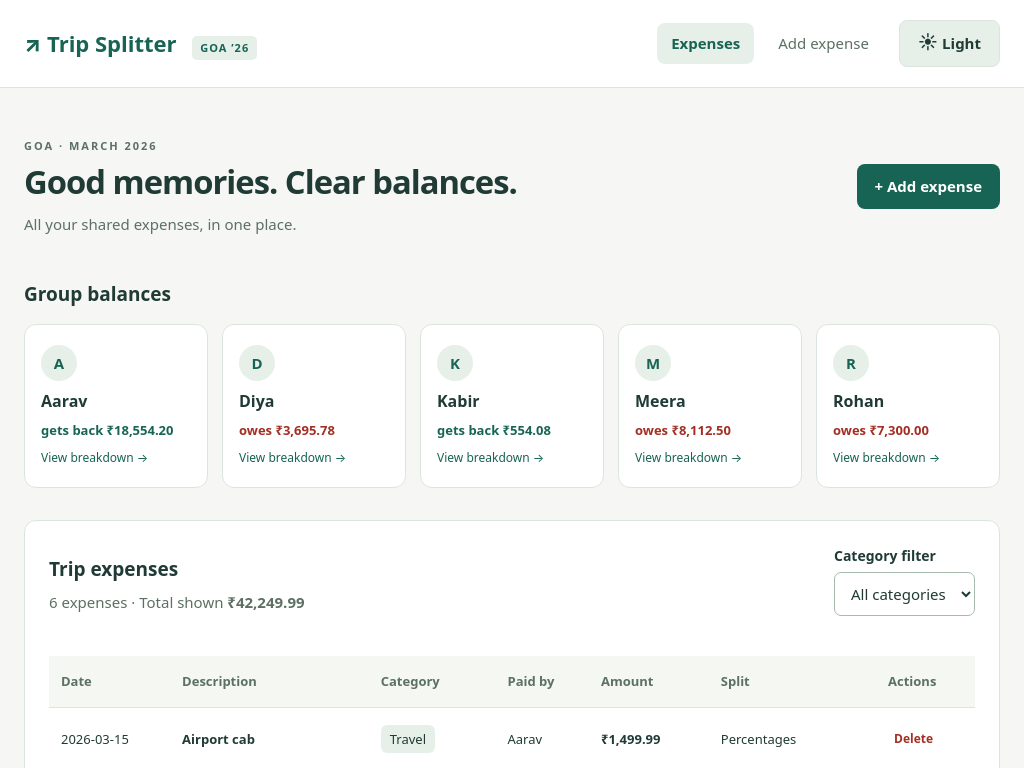
Test: keeps toggling usable and explains a theme persistence failure
Click the button with aria-label "Dark mode". click: (949, 43)
box: top-left (899, 20), bottom-right (1000, 66)
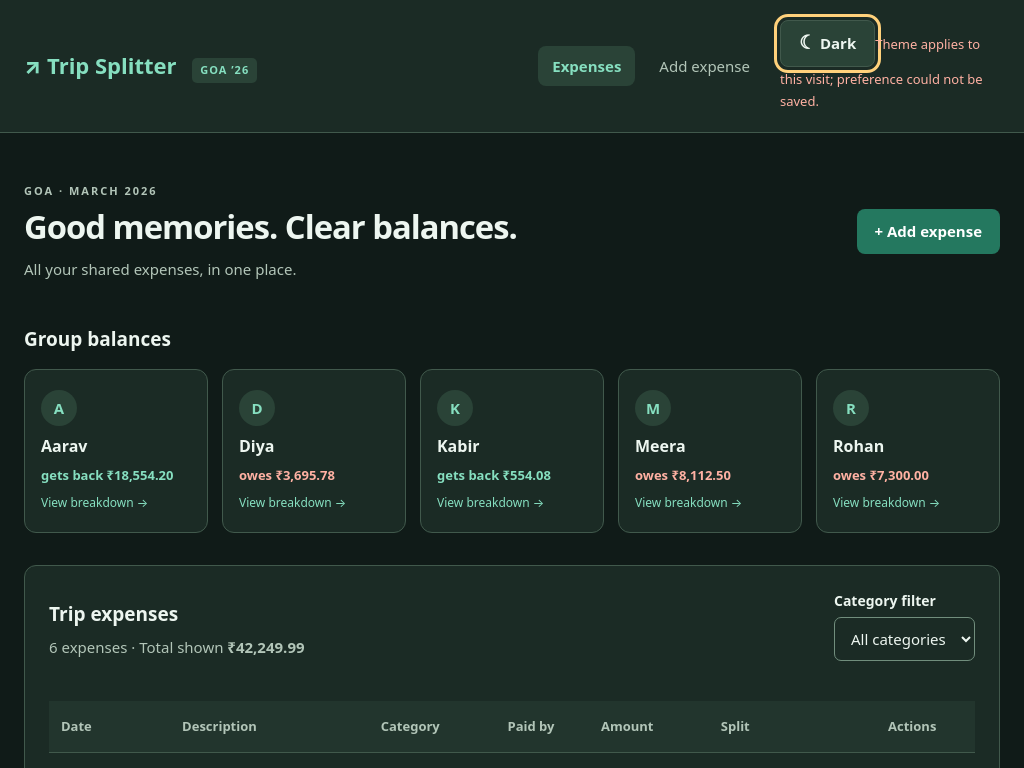
Result: the message shows "preference could not be saved" at top-left (780, 35), bottom-right (983, 110)
